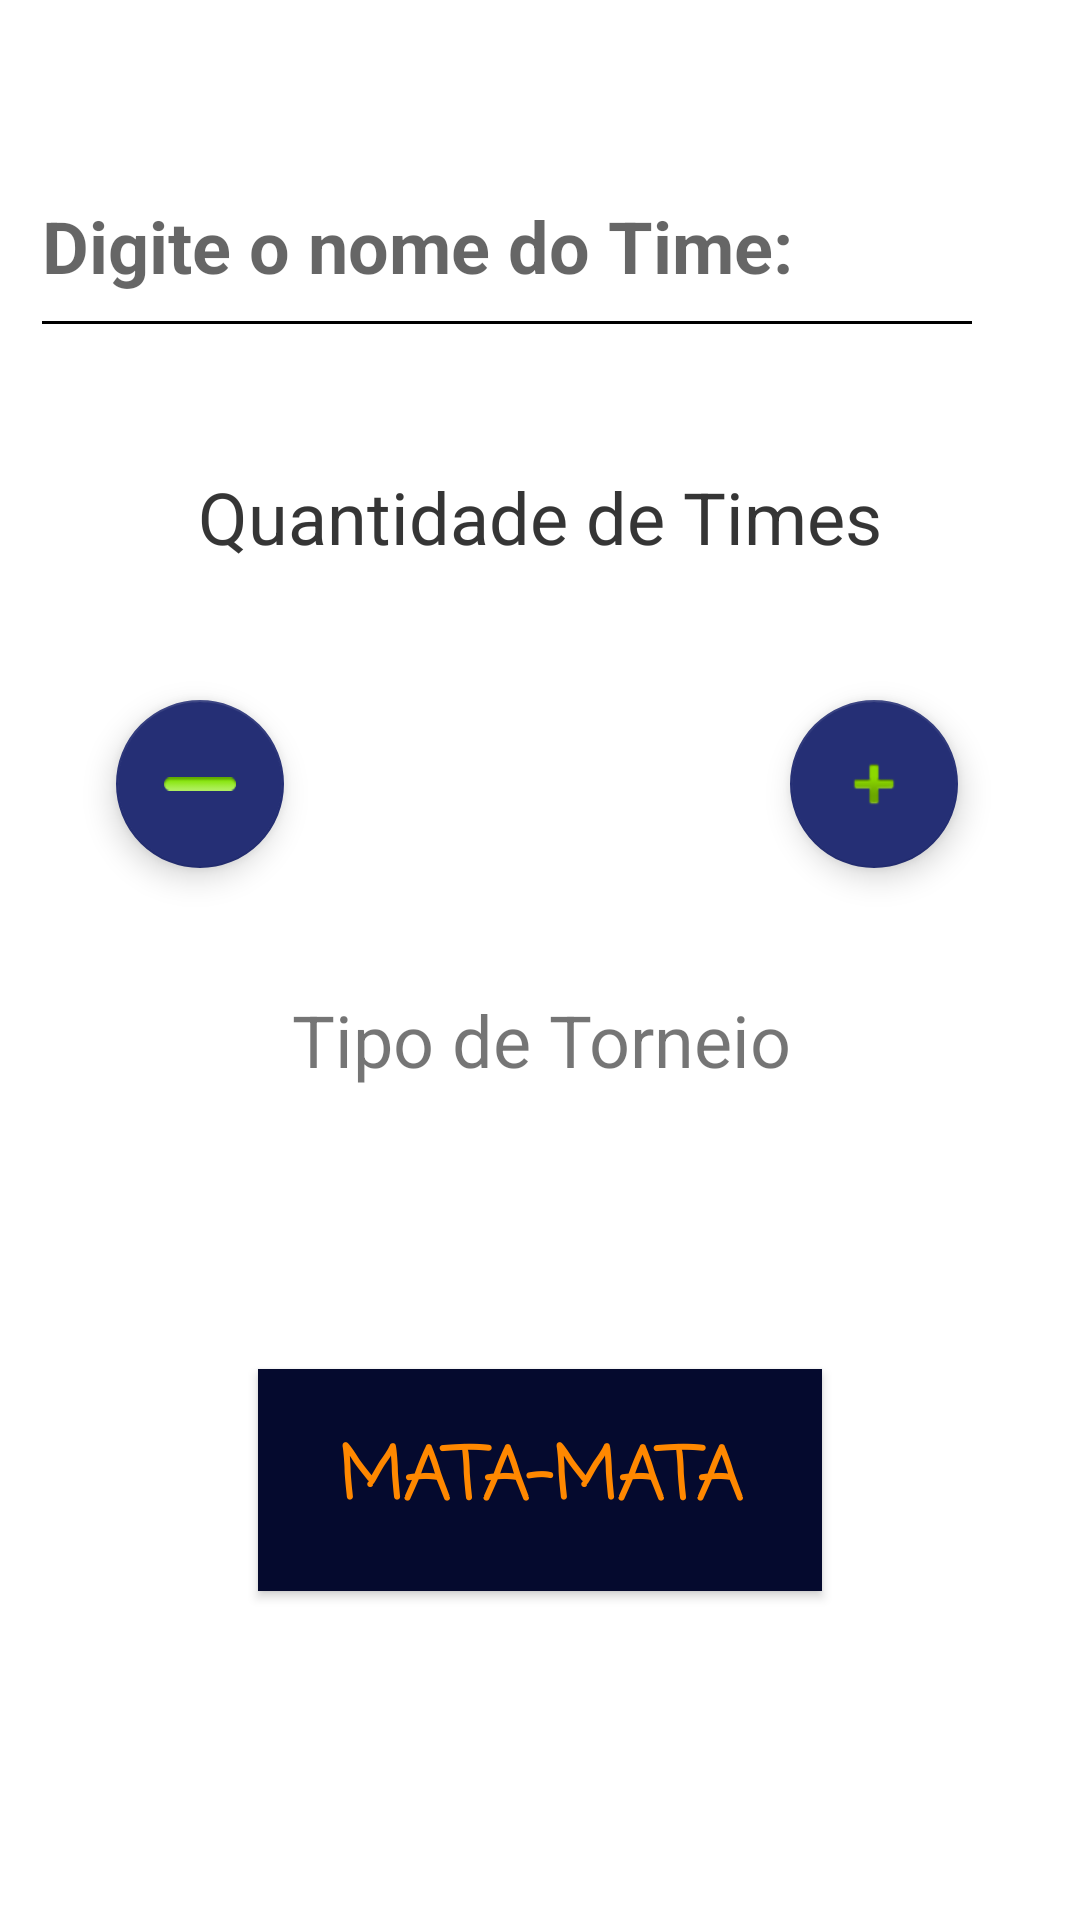

Where icons sit on this 1080px×1920px app screen, as detection(x1, y1, x2, y2):
add: detection(790, 700, 958, 868)
